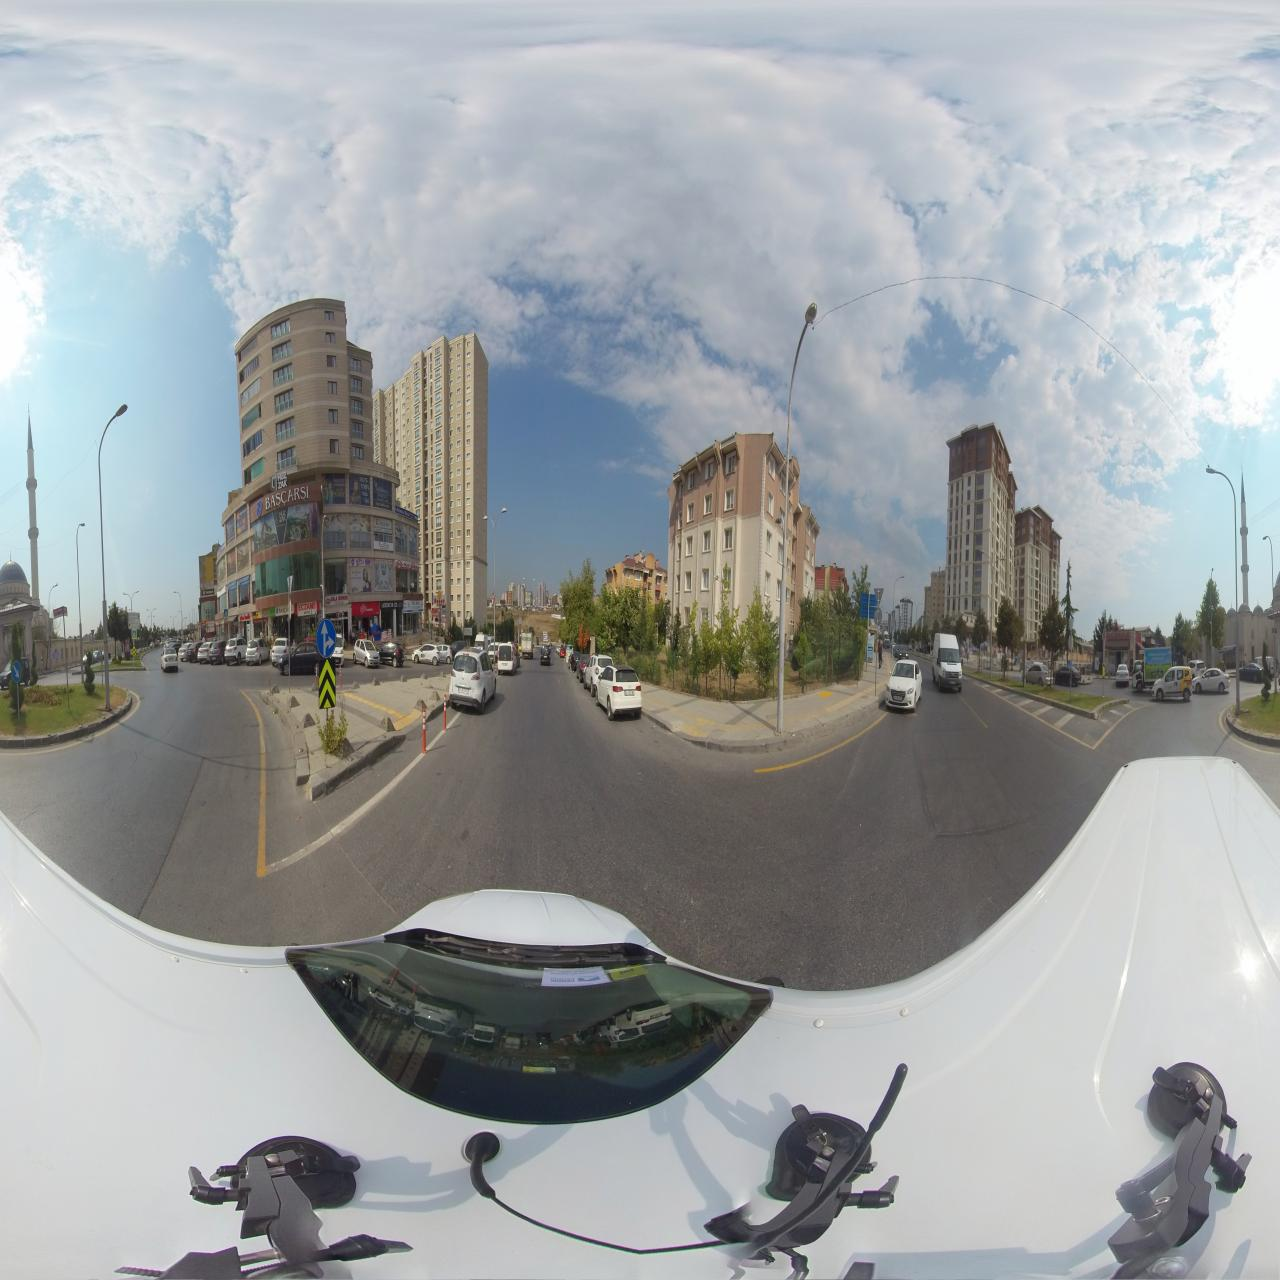SignStore: (352, 601, 380, 615), (395, 505, 418, 522), (297, 600, 318, 617), (395, 560, 420, 572), (326, 594, 349, 606), (403, 600, 423, 613), (374, 540, 394, 551), (350, 557, 372, 566), (381, 601, 403, 608), (275, 605, 288, 617), (263, 607, 275, 618), (239, 576, 250, 586), (239, 613, 251, 621), (253, 611, 261, 622), (229, 580, 237, 591)
